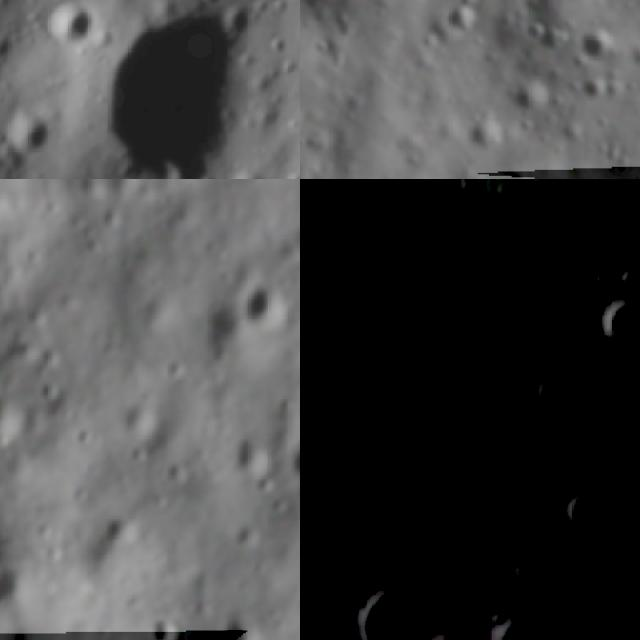crater: (52, 0, 300, 179), (347, 573, 455, 640), (562, 408, 632, 478), (238, 270, 300, 339), (36, 0, 107, 53), (567, 15, 625, 74), (220, 426, 278, 485), (563, 486, 618, 546), (505, 285, 563, 337), (6, 110, 60, 164), (593, 292, 640, 353), (434, 0, 490, 46), (213, 603, 279, 640), (100, 509, 146, 561), (526, 370, 572, 415), (300, 0, 370, 27), (0, 386, 30, 444), (479, 617, 538, 640), (143, 611, 183, 640), (534, 520, 566, 553), (287, 416, 300, 493), (300, 23, 307, 83)
